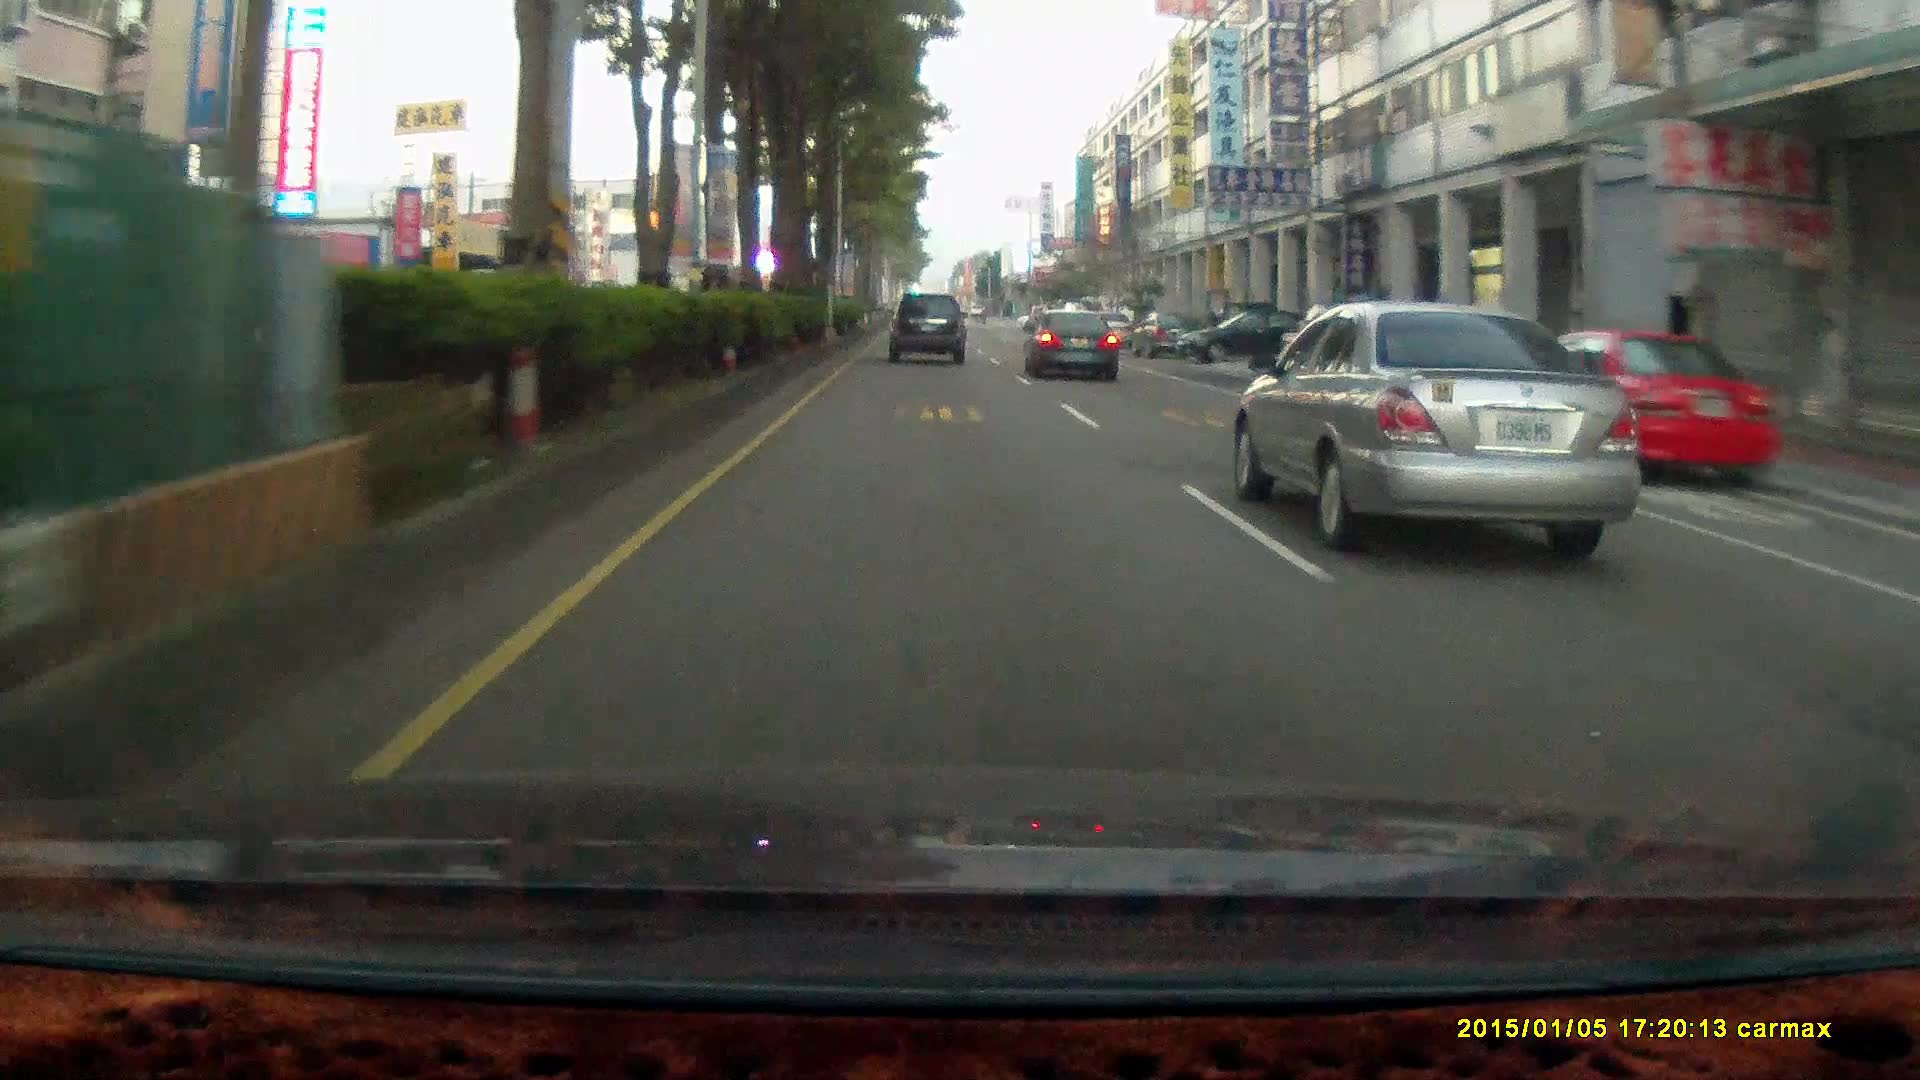vehicle: (1226, 286, 1662, 545), (1495, 326, 1787, 487), (1528, 320, 1788, 491), (1172, 305, 1321, 361), (1022, 309, 1122, 382), (1023, 307, 1120, 382), (887, 290, 971, 367), (885, 289, 967, 360), (1127, 309, 1199, 357)
